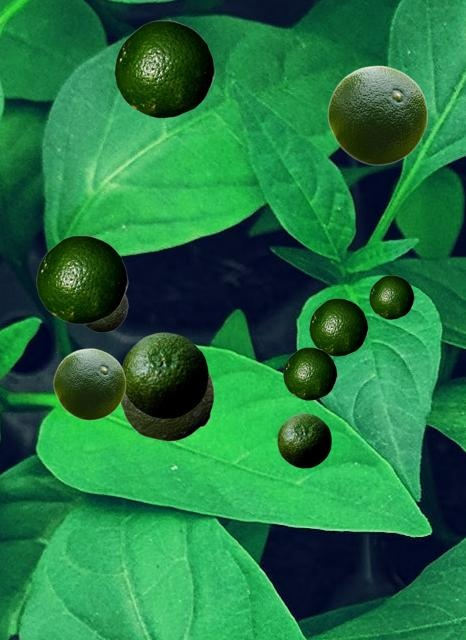calamansi: (327, 65, 427, 164), (114, 20, 214, 117), (36, 235, 127, 323), (122, 332, 207, 418), (120, 368, 213, 440), (53, 348, 125, 419), (309, 298, 367, 355), (277, 413, 330, 467), (283, 347, 336, 399), (369, 275, 413, 318), (82, 295, 127, 331)
